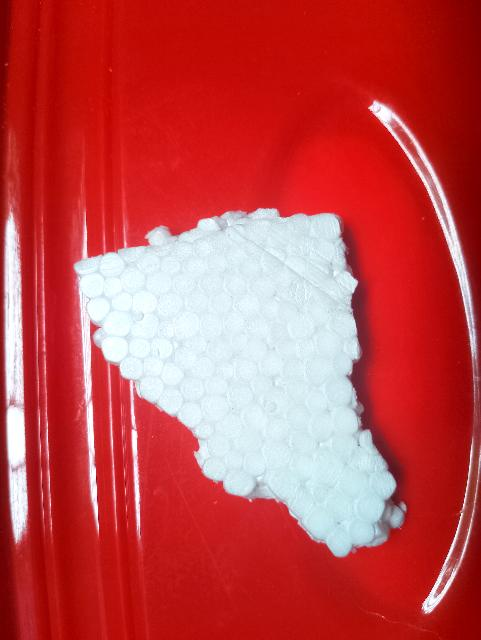cocksheet: (52, 74, 481, 574)
